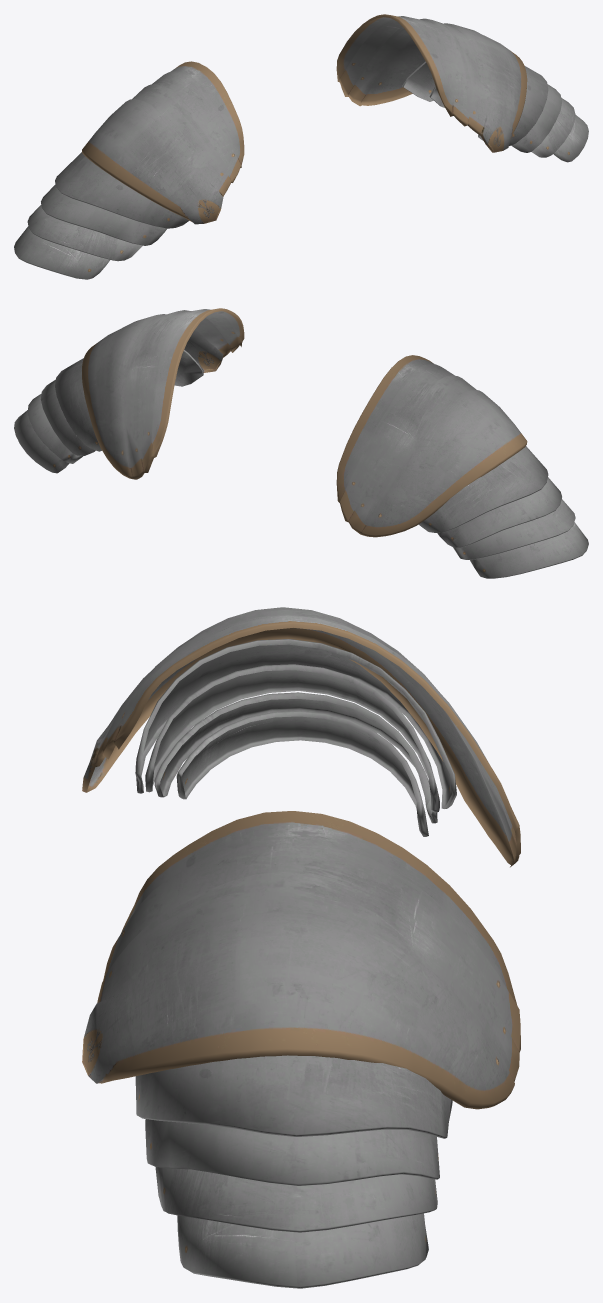
File: swan_knight_pauldrons_c1.fbx
3 renders of one model, top to bottom at view 1: azimuth 30°, elevation 25°; view 2: azimuth 150°, elevation 25°; view 3: azimuth 270°, elevation 25°, orthographic. The views are drawn at different scales.
Parts seen in each view (by area): view 1: swan_knight_pauldrons_c1; view 2: swan_knight_pauldrons_c1; view 3: swan_knight_pauldrons_c1.
Boxes of the visible parts, x1,y1,x2,y2 form: swan_knight_pauldrons_c1: [14, 14, 588, 279]; swan_knight_pauldrons_c1: [14, 308, 588, 578]; swan_knight_pauldrons_c1: [82, 607, 520, 1288].
Bounding box in the file's own units: 0.7816 × 0.2633 × 0.2179.
1 material, 1 textured.
